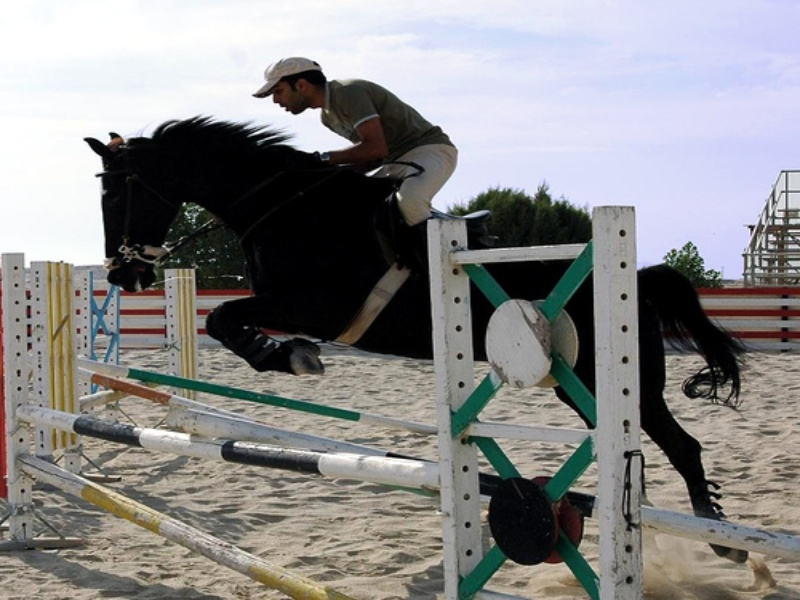person: (253, 56, 458, 226)
